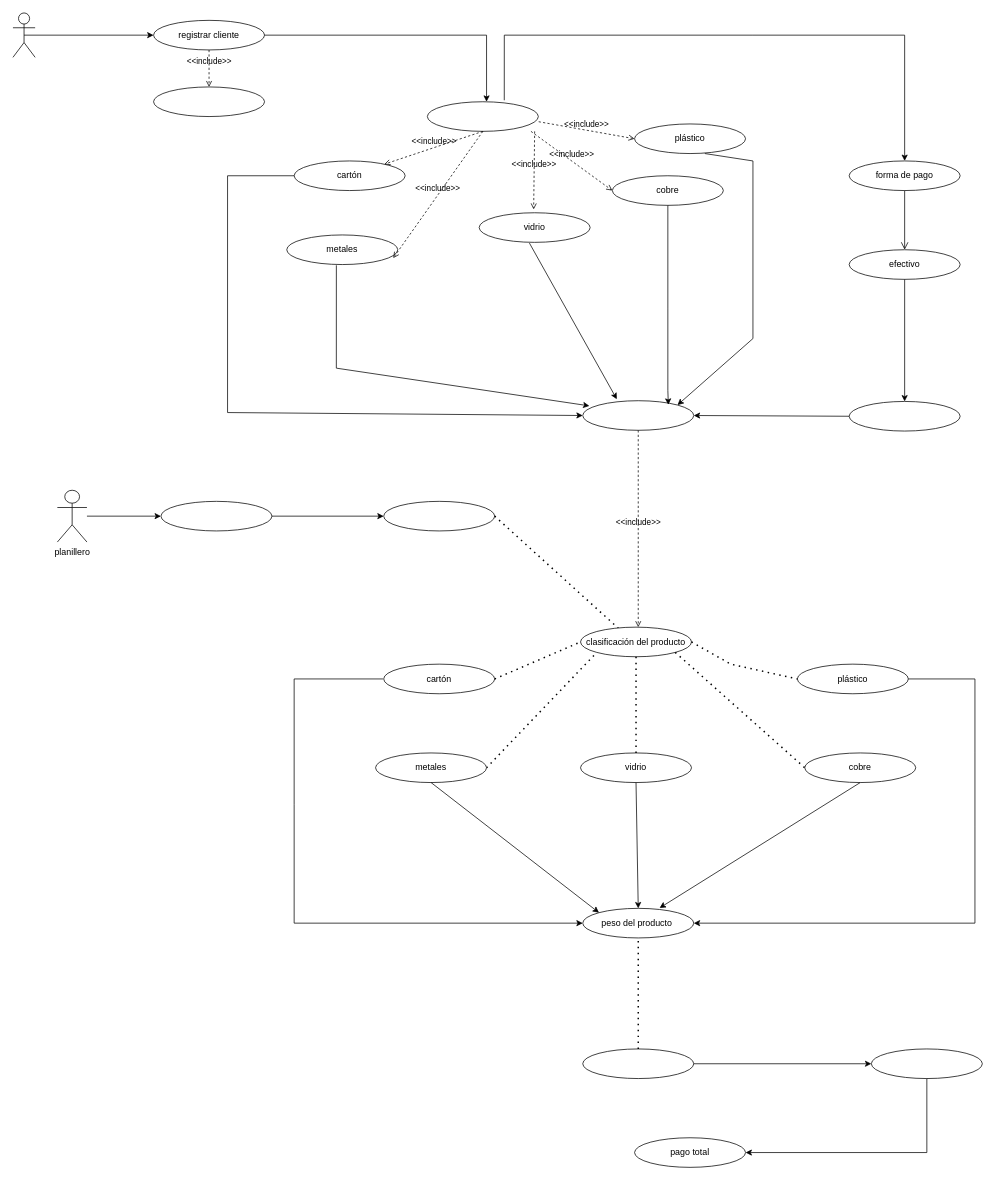
The diagram is 995 pixels wide and 1180 high, and some of its shapes have lost their labels. The shapes that lost their labels are listed below. From the top down, each one's centre as x and y in pixels, then its label:
At (23,34): "Caja".
At (209,101): "editar cliente".
At (482,116): "solicitud del producto".
At (638,415): "actualizar inventario".
At (904,416): "confirmar venta".
At (216,516): "registrar Reciclador".
At (439,516): "registrar producto".
At (638,1063): "pago según el material".
At (926,1063): "pago por el pesaje".
